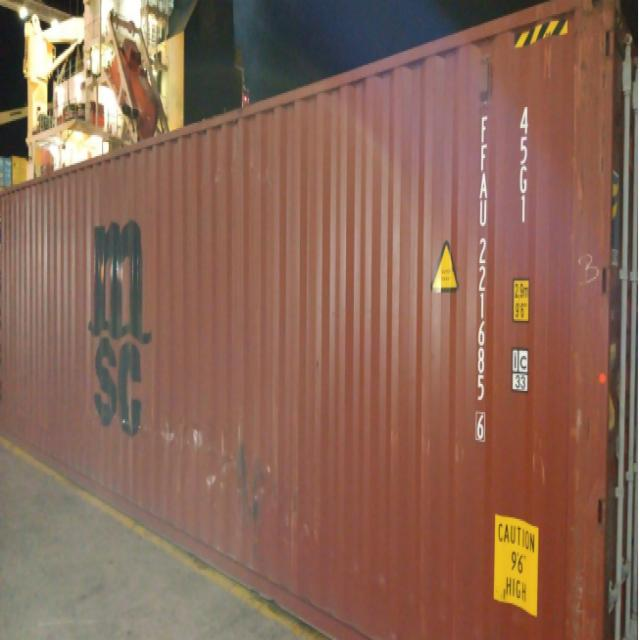dent: (132, 407, 385, 583)
